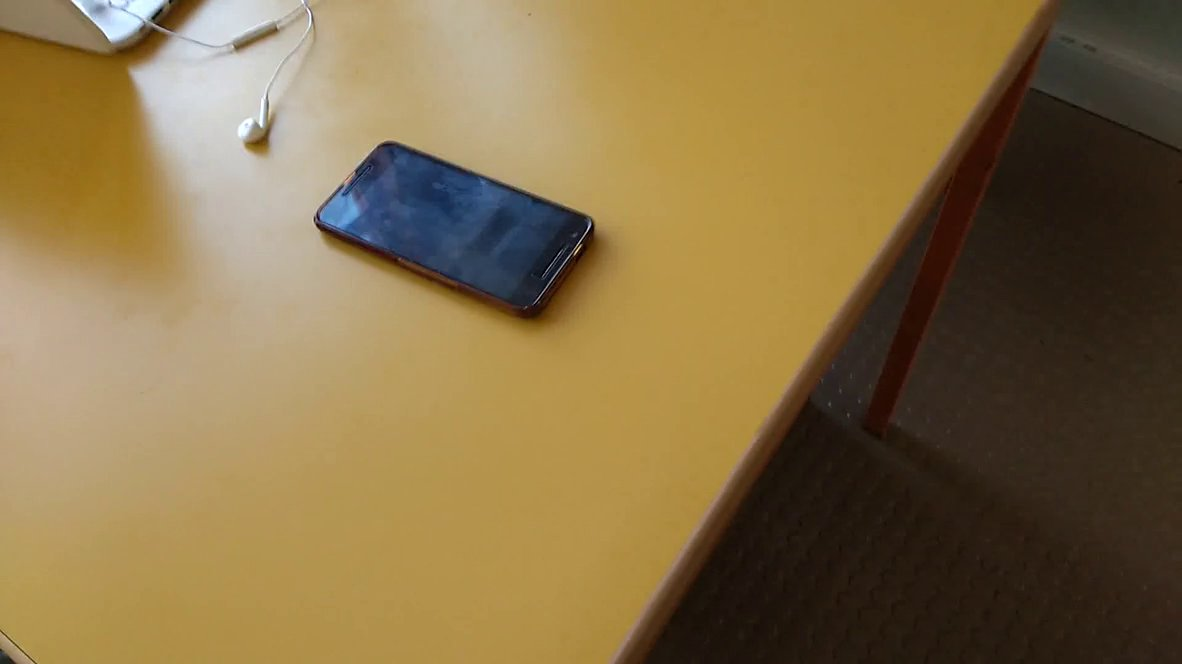phone: (299, 133, 616, 333)
